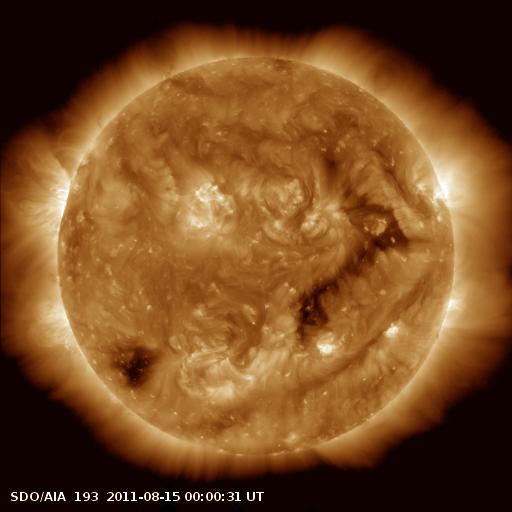coronal_hole: (294, 220, 416, 341), (104, 341, 165, 394)
